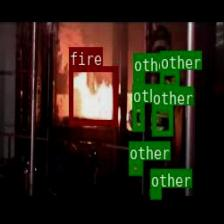fire: (68, 66, 116, 124)
